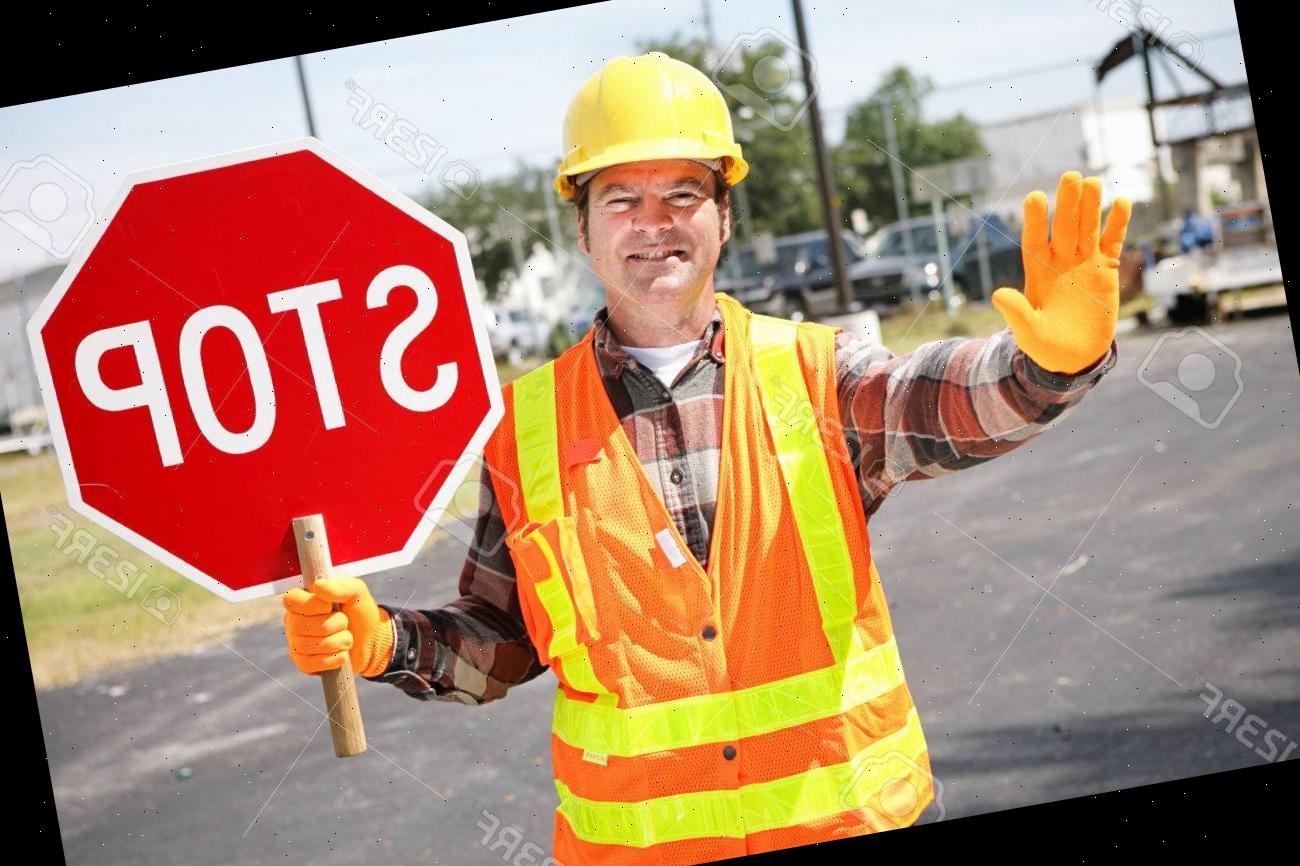helmet: (532, 36, 752, 206)
wear: (476, 319, 935, 866)
